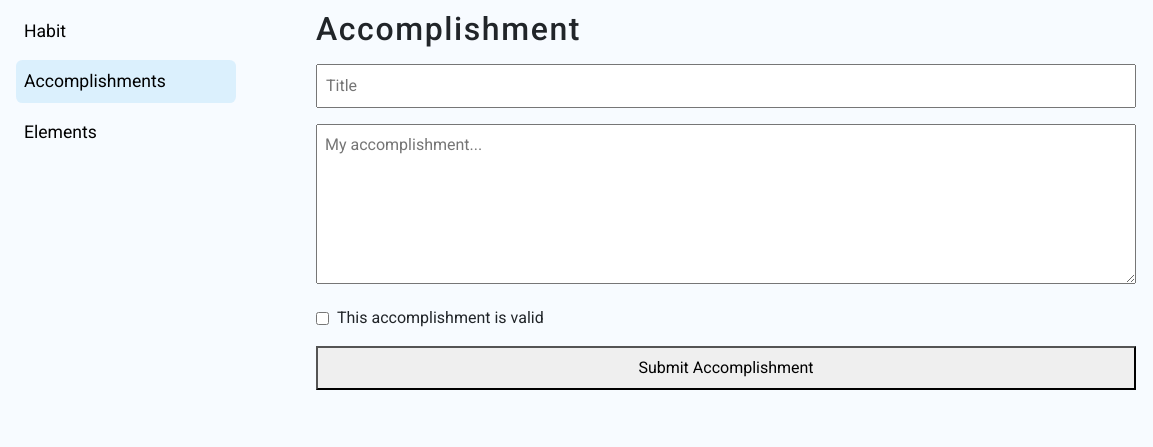
Test: Accomplishments Tests › Should showcase error if checkbox is false
Type "test123" into the field with placeholder "Title" at x=726, y=86, box [316, 64, 1136, 108]
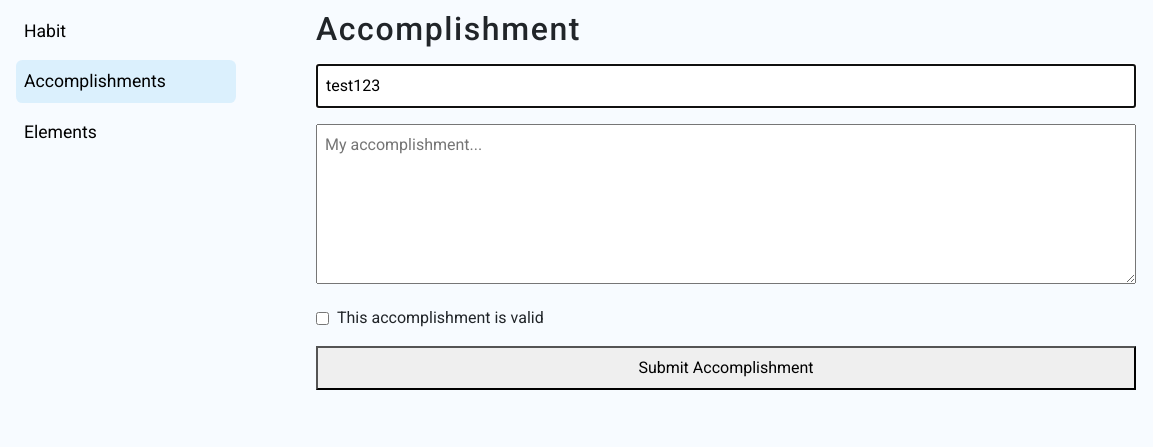
Type "test321" into the text box with placeholder "My accomplishment..." at x=726, y=204, box [316, 124, 1136, 284]
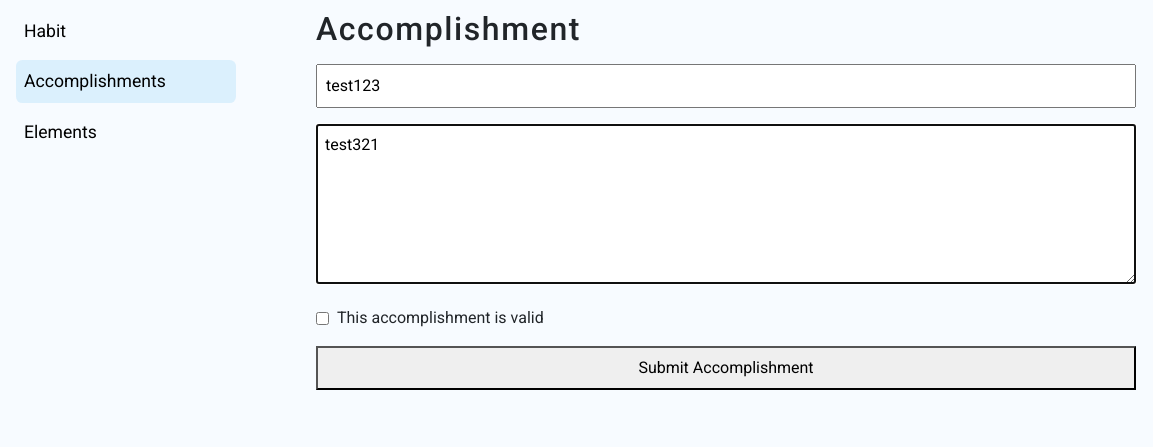
Click the button "Submit Accomplishment" at x=726, y=368, box [316, 346, 1136, 390]
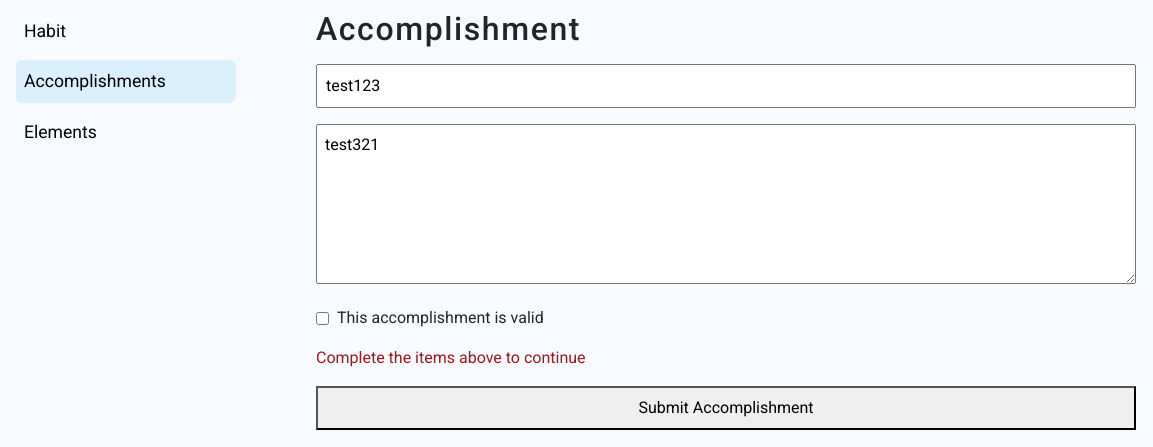
Expected: the text "Complete the items above to continue" is shown, [316, 348, 586, 367]
